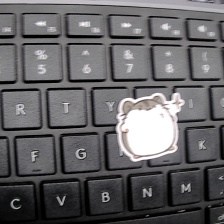mouse: (115, 90, 186, 165)
